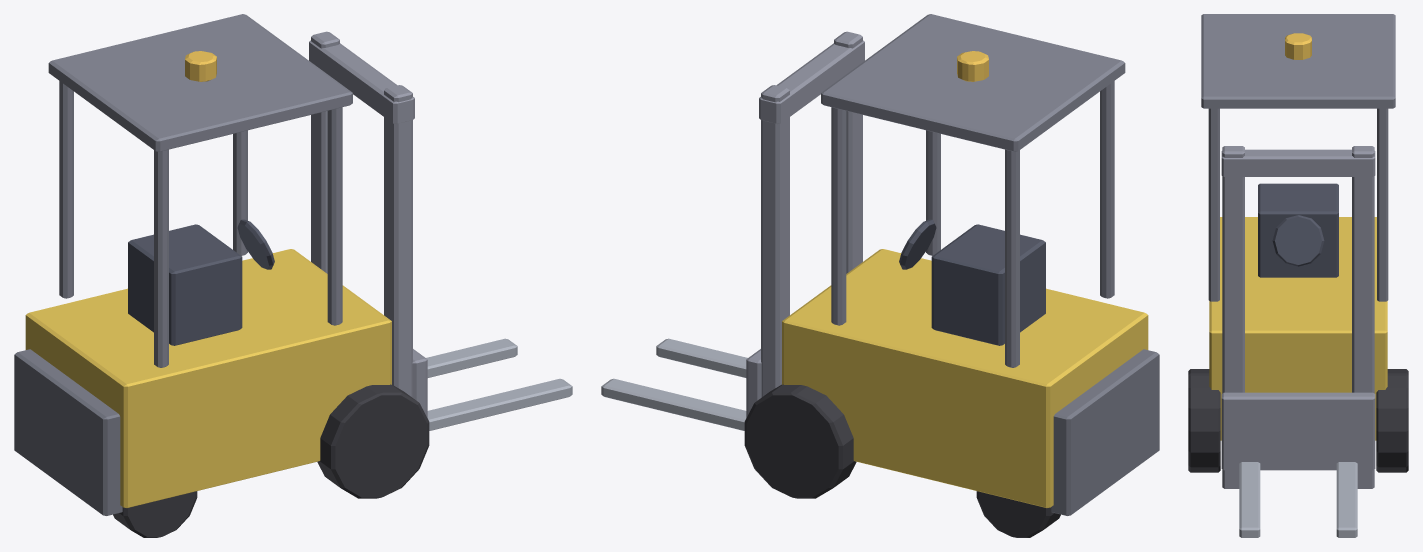
File: forklift.glb
3 views of the same model, side by side, from view 1: azimuth 30°, elevation 25°; view 2: azimuth 150°, elevation 25°; view 3: azimuth 270°, elevation 25° (orthographic). The views are drawn at different scales.
Visible parts, largest first — view 1: Forklift; view 2: Forklift; view 3: Forklift.
Boxes of the visible parts, bbox=[...] form: Forklift: bbox=[14, 14, 572, 537]; Forklift: bbox=[601, 14, 1159, 537]; Forklift: bbox=[1188, 14, 1408, 537].
Size of the model in its own units: 3.05 by 2.58 by 1.36.
